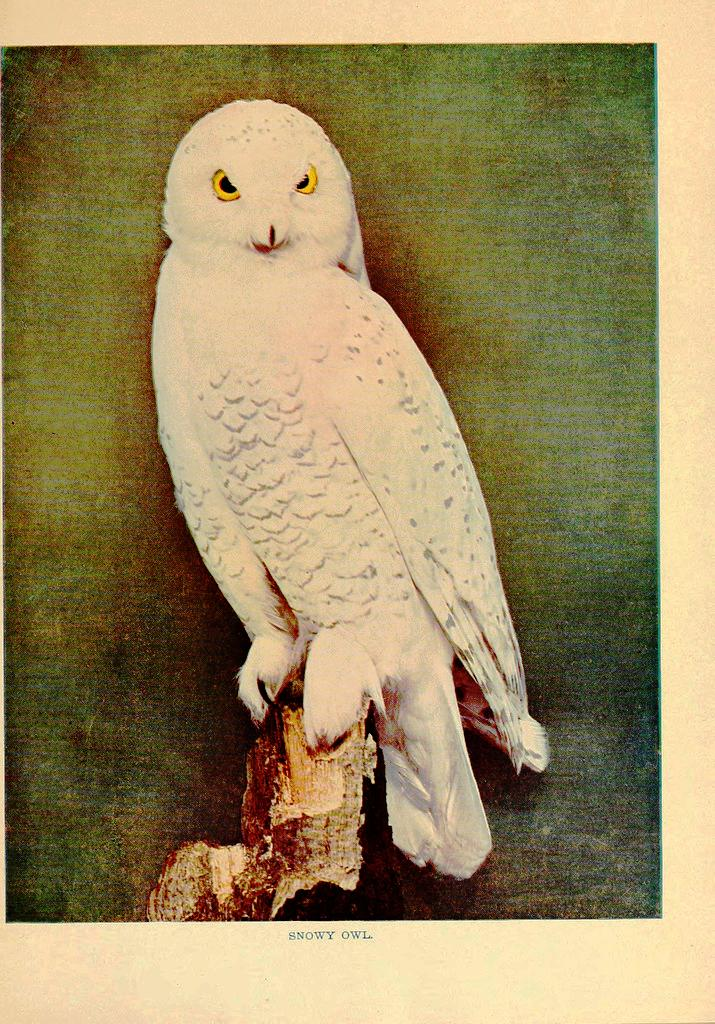Owl: (150, 104, 550, 880)
